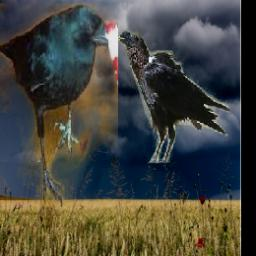Crow: (0, 3, 118, 207), (118, 29, 231, 163)
